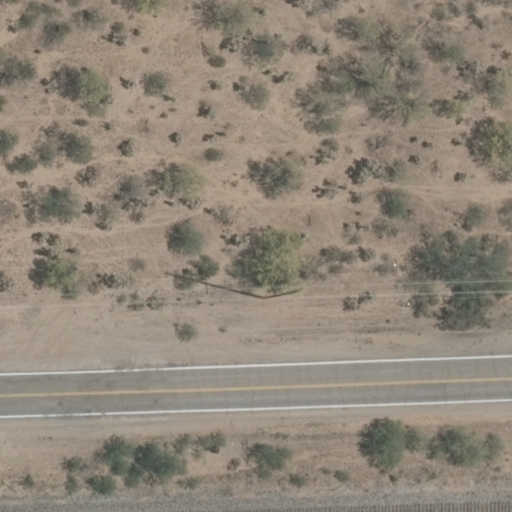DT: (260, 285, 306, 302)
